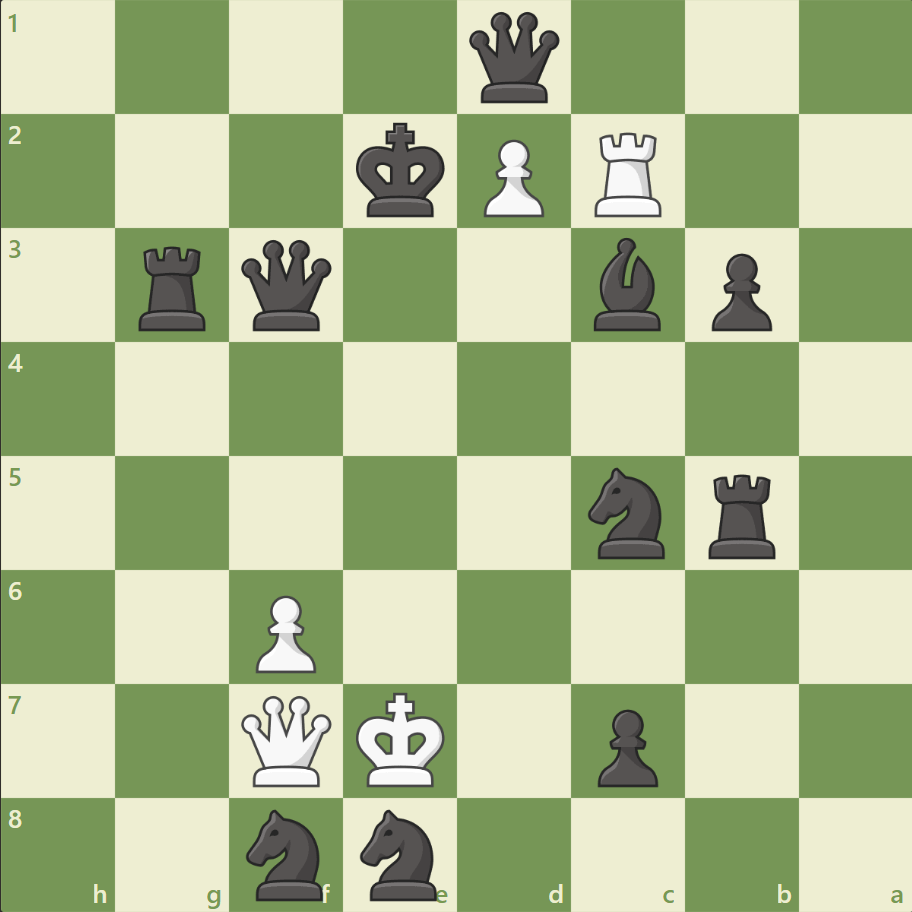K: (351, 685, 451, 793)
P: (247, 586, 322, 677), (474, 132, 549, 223)
Q: (237, 690, 336, 789)
R: (587, 125, 670, 222)
b: (585, 233, 669, 336)
k: (351, 117, 451, 225)
n: (351, 802, 449, 904), (579, 461, 676, 564), (238, 802, 335, 904)
p: (701, 246, 776, 337), (588, 700, 662, 791)
q: (237, 236, 336, 335), (464, 9, 563, 108)
r: (700, 466, 783, 563), (133, 239, 215, 336)
